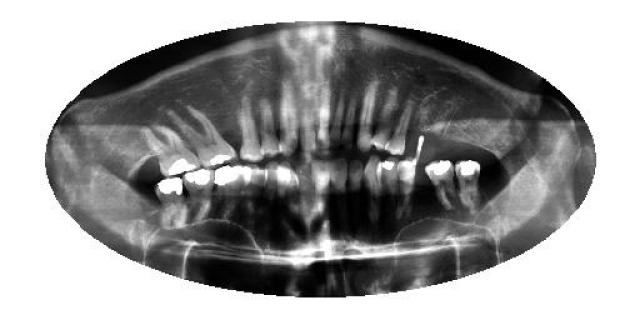Fillings: (166, 106, 236, 169), (140, 124, 201, 174), (215, 164, 253, 220), (184, 168, 216, 228), (425, 160, 459, 214), (156, 175, 185, 231), (457, 159, 482, 210)
